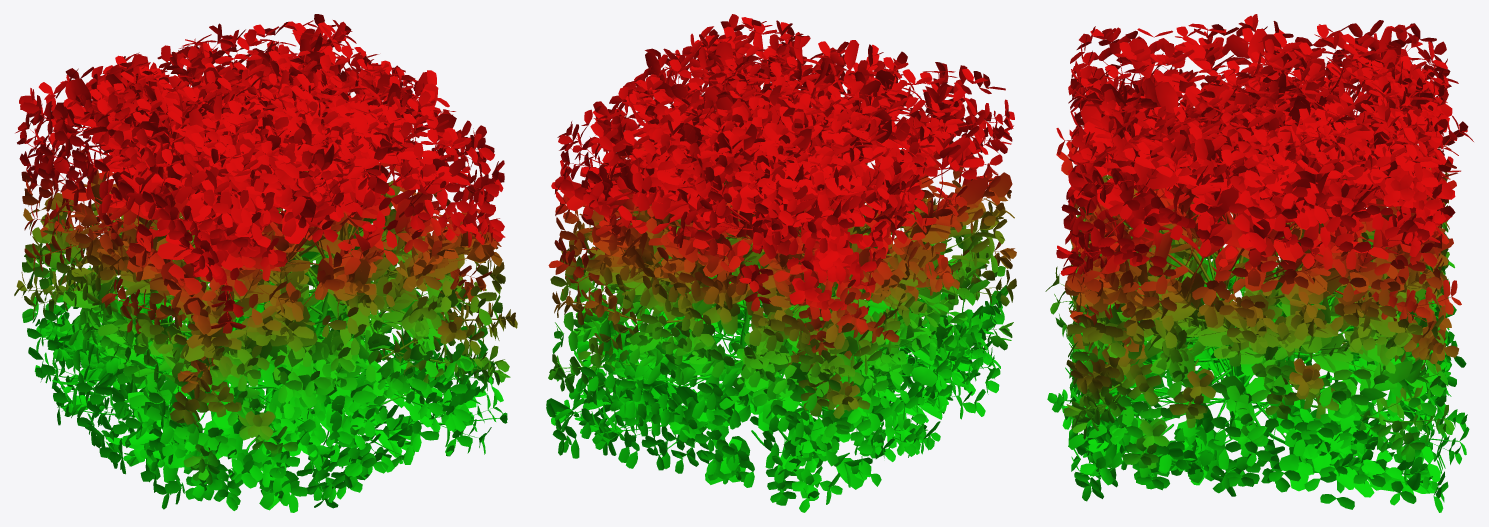
File: Var6_LOD2.fbx
3 views of the same model, side by side, from view 1: azimuth 30°, elevation 25°; view 2: azimuth 150°, elevation 25°; view 3: azimuth 270°, elevation 25° (orthographic). The views are drawn at different scales.
Parts seen in each view (by area): view 1: _f3cc_Var6_LOD2; view 2: _f3cc_Var6_LOD2; view 3: _f3cc_Var6_LOD2.
Part boxes in pixels (<box>): _f3cc_Var6_LOD2: <box>14,14,517,512</box>; _f3cc_Var6_LOD2: <box>546,14,1016,512</box>; _f3cc_Var6_LOD2: <box>1045,14,1473,512</box>.
Bounding box in the file's own units: 62.89 × 60.28 × 64.01.
